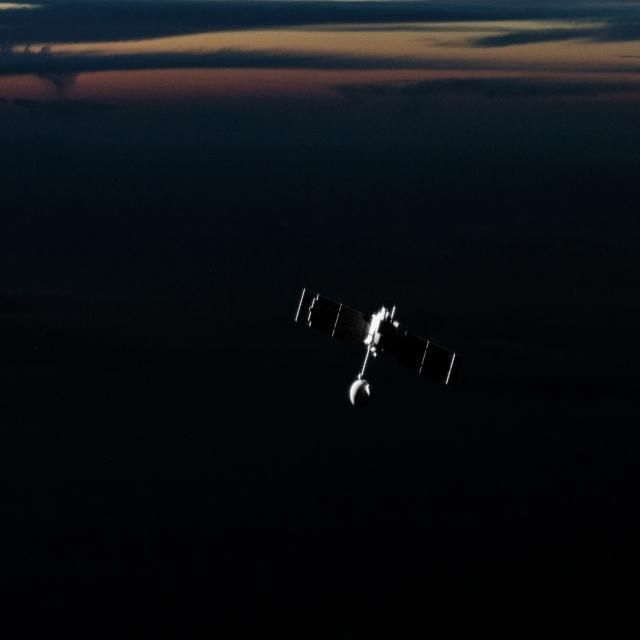satellite: (273, 279, 483, 415)
